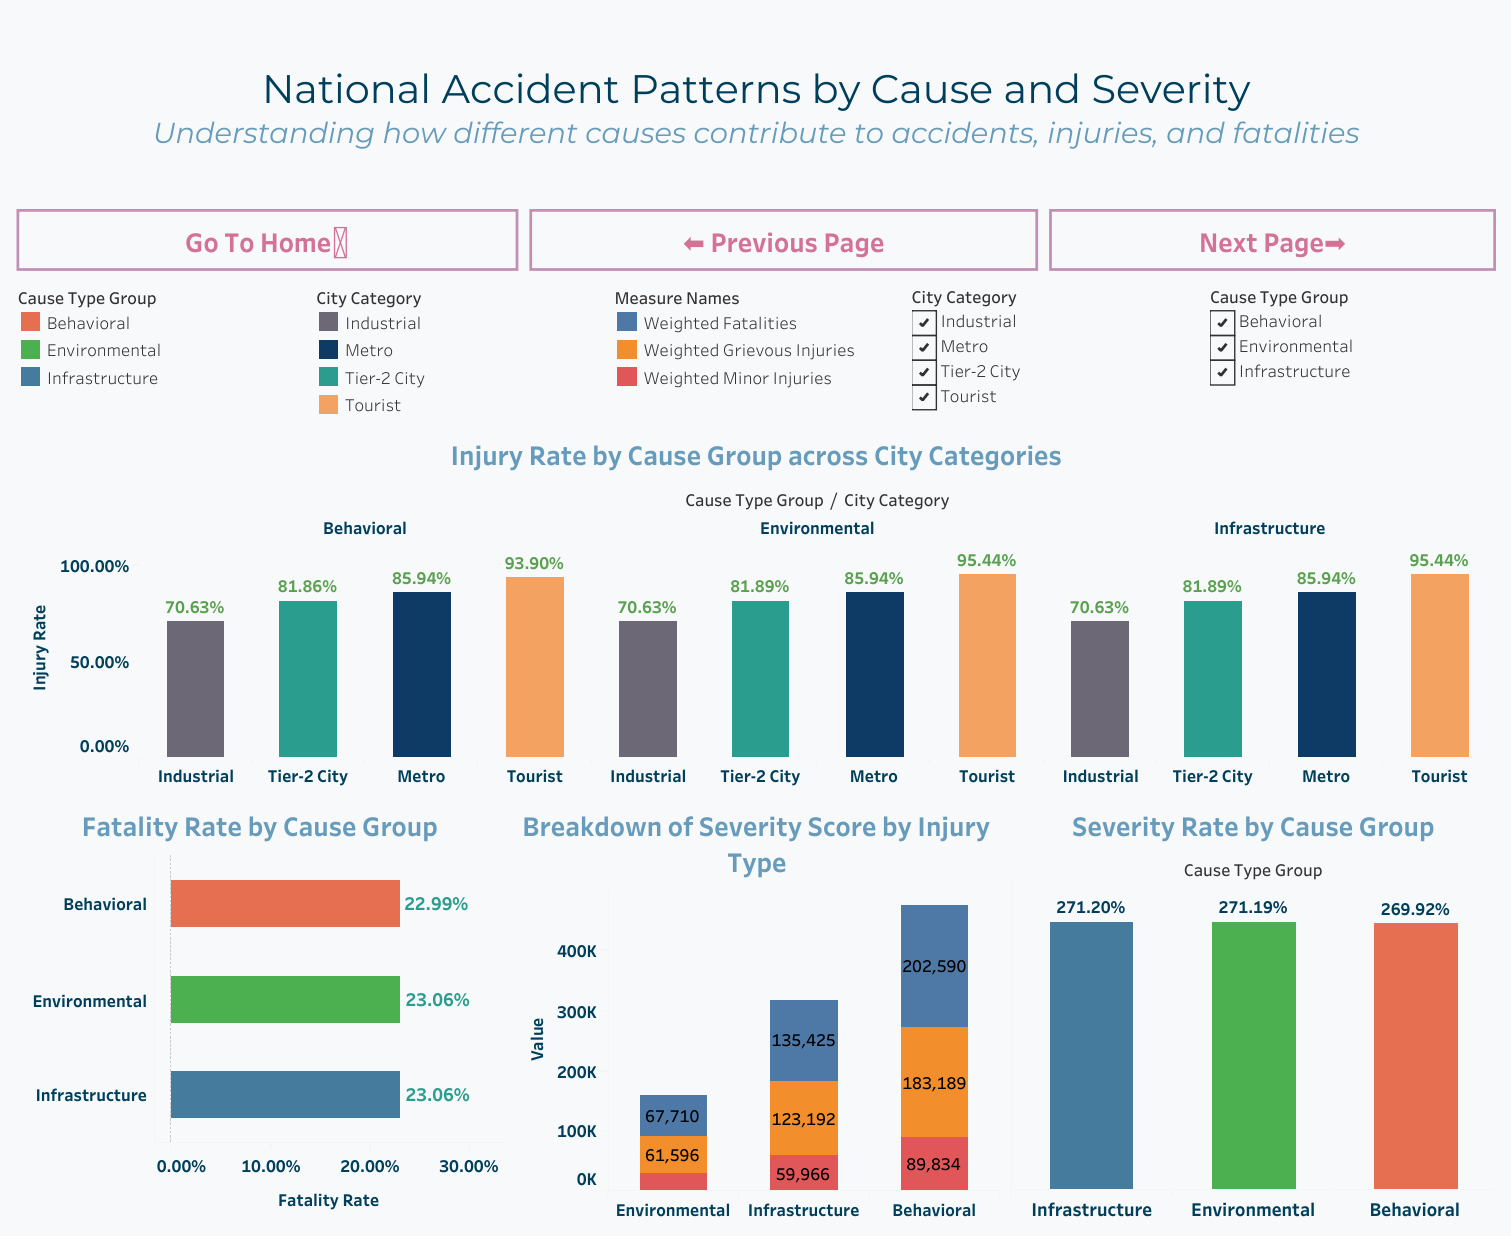

The page's visual inventory and layout, read from the dashboard file:
{"tool":"tableau","page":{"name":"Dashboard: National Accident Patterns by Cause and Severity (2)","canvas":[1100,900],"ordinal":3},"visuals":[{"type":"text","box":[8,8,1084,140]},{"type":"dashboard-object","box":[8,148,373,53]},{"type":"dashboard-object","box":[381,148,378,53]},{"type":"dashboard-object","box":[759,148,333,53]},{"type":"legend","title":"Fatality rate by Cause Group","param":"[federated.1qr1u5g0pfcfgy1fzzg5r0x8486u].[none:Cause_Type_Group:nk]","box":[8,201,217,106]},{"type":"legend","title":"Avg Injury Rate by Cause Group across City Types","param":"[federated.1qr1u5g0pfcfgy1fzzg5r0x8486u].[none:City_Category:nk]","box":[225,201,217,106]},{"type":"legend","title":"Breakdown of Severity Score by Injury Type","param":"[federated.1qr1u5g0pfcfgy1fzzg5r0x8486u].[:Measure Names]","box":[442,201,217,106]},{"type":"filter","title":"Avg Injury Rate by Cause Group across City Types","param":"[federated.1qr1u5g0pfcfgy1fzzg5r0x8486u].[none:City_Category:nk]","box":[659,201,217,106]},{"type":"filter","title":"Severity Rate by Cause Group (Weighted Injuries & Fatalities per 100 Accidents)","param":"[federated.1qr1u5g0pfcfgy1fzzg5r0x8486u].[none:Cause_Type_Group:nk]","box":[876,201,216,106]},{"type":"worksheet","title":"Avg Injury Rate by Cause Group across City Types","mark":"Automatic","rows":["Calculation_266556842711470081"],"cols":["Cause_Type_Group","City_Category"],"box":[8,307,1084,270]},{"type":"worksheet","title":"Fatality rate by Cause Group","mark":"Automatic","rows":["Cause_Type_Group"],"cols":["Calculation_266556842709913600"],"box":[8,577,362,315]},{"type":"worksheet","title":"Breakdown of Severity Score by Injury Type","mark":"Bar","cols":["Cause_Type_Group"],"box":[370,577,361,315]},{"type":"worksheet","title":"Severity Rate by Cause Group (Weighted Injuries & Fatalities per 100 Accidents)","mark":"Bar","rows":["Calculation_266556842737569798"],"cols":["Cause_Type_Group"],"box":[731,577,361,315]}]}

Visuals, with their boxes in screenshot pixels (x1, y1, x2, y2), scaled from the page's 1100x900 canvas onto the 1511x1236 screenshot:
text: [11, 11, 1500, 203]
dashboard-object: [11, 203, 523, 276]
dashboard-object: [523, 203, 1043, 276]
dashboard-object: [1043, 203, 1500, 276]
"Fatality rate by Cause Group" legend: [11, 276, 309, 422]
"Avg Injury Rate by Cause Group across City Types" legend: [309, 276, 607, 422]
"Breakdown of Severity Score by Injury Type" legend: [607, 276, 905, 422]
"Avg Injury Rate by Cause Group across City Types" filter: [905, 276, 1203, 422]
"Severity Rate by Cause Group (Weighted Injuries & Fatalities per 100 Accidents)" filter: [1203, 276, 1500, 422]
"Avg Injury Rate by Cause Group across City Types" worksheet: [11, 422, 1500, 792]
"Fatality rate by Cause Group" worksheet: [11, 792, 508, 1225]
"Breakdown of Severity Score by Injury Type" worksheet (Bar marks): [508, 792, 1004, 1225]
"Severity Rate by Cause Group (Weighted Injuries & Fatalities per 100 Accidents)" worksheet (Bar marks): [1004, 792, 1500, 1225]
